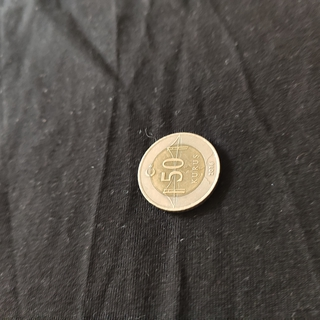50KURUS: (135, 130, 222, 214)
